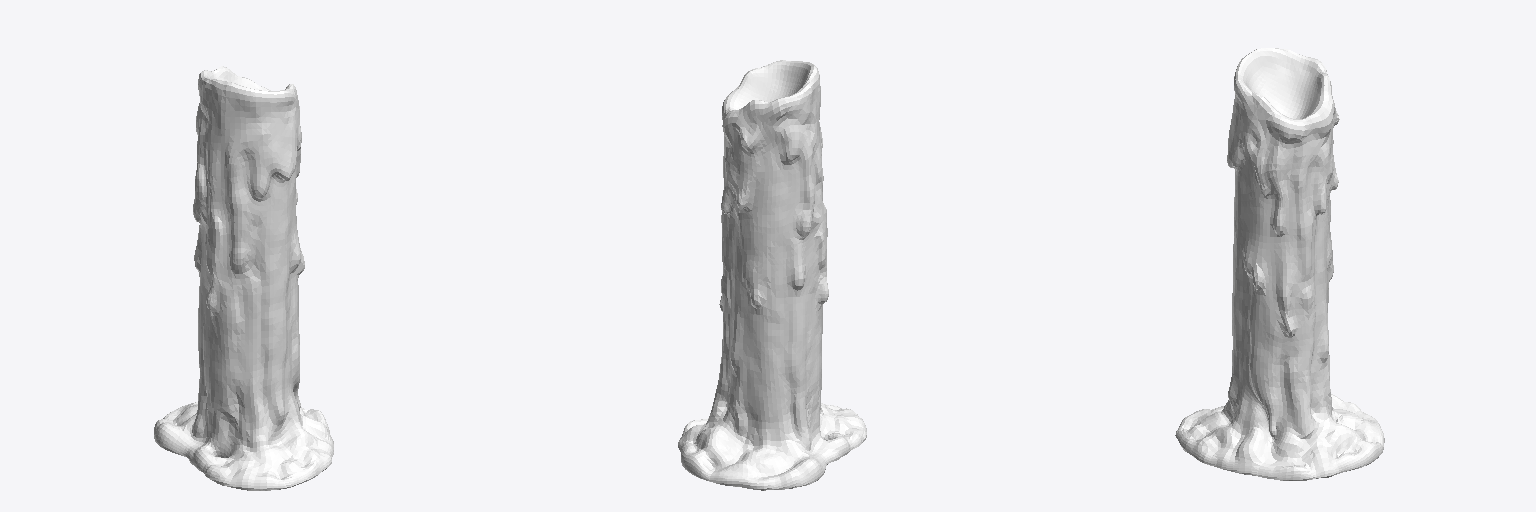
File: candle_1.obj
The picture shows the model from 3 angles: view 1: azimuth 30°, elevation 25°; view 2: azimuth 150°, elevation 25°; view 3: azimuth 270°, elevation 25°; orthographic projection.
Parts seen in each view (by area): view 1: candle_2.004; view 2: candle_2.004; view 3: candle_2.004.
Boxes of the visible parts, box(x1,y1,x2,y2) form: candle_2.004: box(154, 66, 333, 490); candle_2.004: box(678, 60, 866, 490); candle_2.004: box(1175, 48, 1384, 480).
Size of the model in its own units: 0.0655 by 0.1598 by 0.0798.